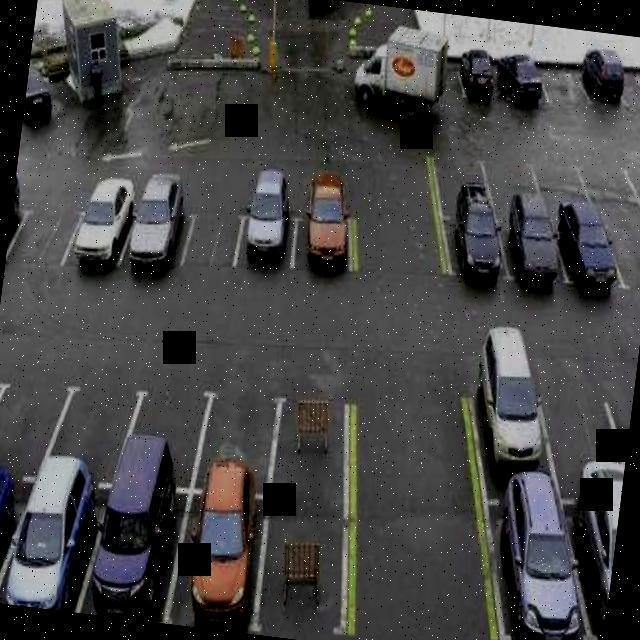space-empty: (103, 367, 220, 498), (31, 375, 150, 500), (534, 358, 636, 492), (189, 378, 287, 501), (0, 365, 66, 486), (3, 193, 84, 288), (167, 207, 247, 291), (422, 144, 492, 215), (580, 149, 640, 226), (485, 150, 547, 222), (534, 148, 591, 223), (535, 48, 591, 121), (607, 369, 636, 494), (597, 214, 640, 298), (610, 49, 640, 123), (626, 146, 640, 216)
space-occupied: (464, 472, 606, 640), (72, 478, 191, 625), (171, 482, 277, 633), (0, 468, 107, 614), (252, 492, 357, 632), (457, 361, 559, 490), (264, 393, 358, 507), (548, 501, 619, 640), (544, 208, 623, 301), (487, 202, 565, 291), (289, 201, 362, 294), (120, 203, 193, 286), (61, 199, 133, 283), (234, 206, 305, 285), (437, 204, 504, 287), (568, 44, 632, 129), (448, 41, 511, 120), (495, 45, 550, 118), (3, 206, 31, 286)
